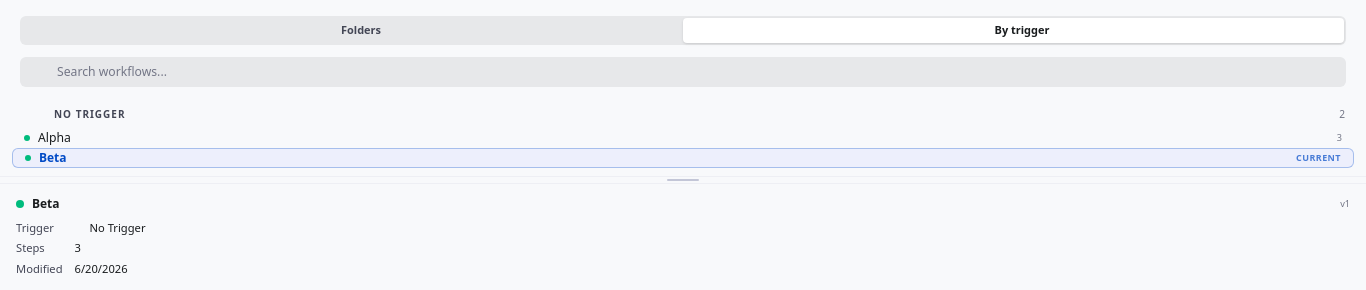
Test: WorkflowBrowser info card › hoverItem_updatesCard_andLeaveRevertsToCurrent
This screenshot has width=1366, height=290.
Hover over the button "Alpha 3".
mouse_move(54, 137)  # box x1=12 y1=128 x2=1354 y2=148
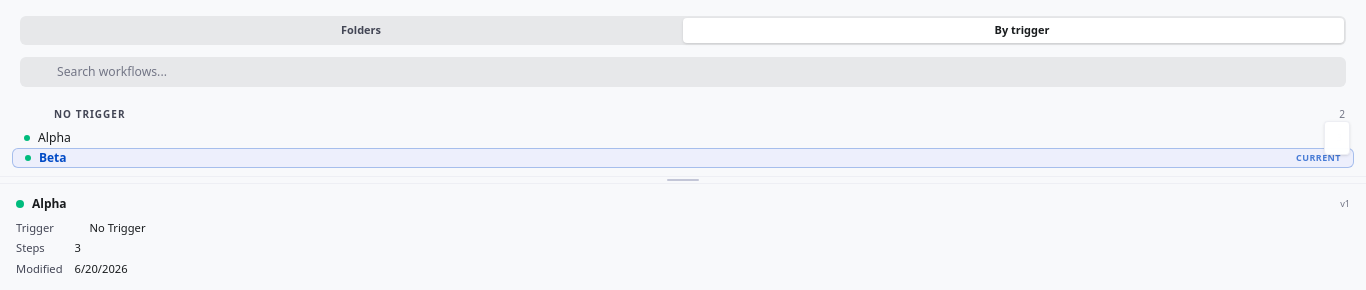
Now the text "Alpha" next to "v1" is shown, box x1=32 y1=194 x2=67 y2=212
Move the pointer off the button "Alpha 3", box x1=12 y1=128 x2=1354 y2=148
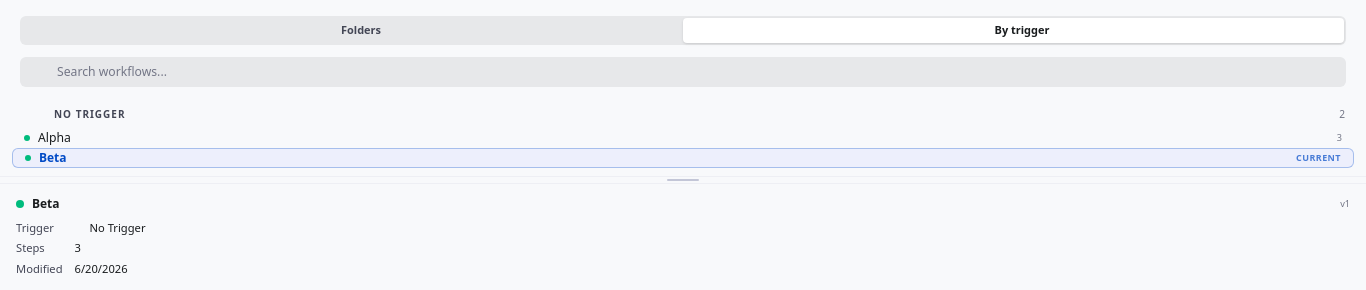
Now the text "Beta" next to "v1" is shown, box x1=32 y1=194 x2=60 y2=212
